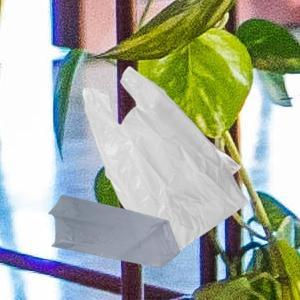plastic_bag: (80, 64, 251, 254)
